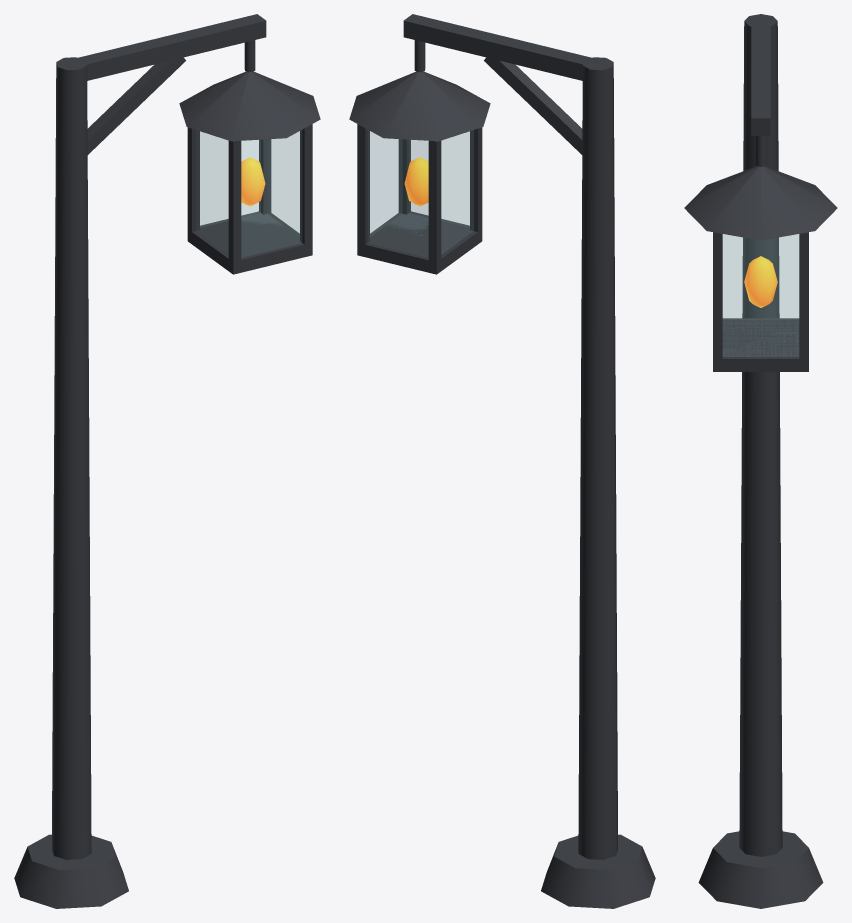
File: hanging-lantern-lod1.glb
3 views of the same model, side by side, from view 1: azimuth 30°, elevation 25°; view 2: azimuth 150°, elevation 25°; view 3: azimuth 270°, elevation 25° (orthographic). The views are drawn at different scales.
Visible parts, largest first — view 1: post, glass-body, cap, post-foot, cage-bar (×4), bracket, floor-plate, bracket-strut, flame; view 2: post, glass-body, cap, post-foot, cage-bar (×4), bracket, floor-plate, bracket-strut, flame; view 3: post, glass-body, cap, post-foot, floor-plate, cage-bar (×2), bracket, flame, hook.
Part boxes in pixels (<box>): post: <box>52,57,91,859</box>; glass-body: <box>196,130,301,256</box>; cap: <box>179,71,320,141</box>; post-foot: <box>14,834,128,908</box>; cage-bar (×4): <box>187,124,312,266</box>; bracket: <box>59,14,266,80</box>; floor-plate: <box>187,211,312,274</box>; bracket-strut: <box>87,57,185,154</box>; flame: <box>241,157,265,206</box>; post: <box>578,57,617,859</box>; glass-body: <box>368,130,473,256</box>; cap: <box>349,71,490,141</box>; post-foot: <box>541,834,655,908</box>; cage-bar (×4): <box>357,124,482,266</box>; bracket: <box>403,14,610,80</box>; floor-plate: <box>357,211,482,274</box>; bracket-strut: <box>484,57,582,154</box>; flame: <box>404,157,428,206</box>; post: <box>739,14,782,856</box>; glass-body: <box>723,234,798,356</box>; cap: <box>684,166,837,240</box>; post-foot: <box>698,831,823,908</box>; floor-plate: <box>713,318,808,371</box>; cage-bar (×2): <box>713,232,808,363</box>; bracket: <box>751,17,770,135</box>; flame: <box>744,256,777,307</box>; hook: <box>755,136,766,166</box>.
Size of the model in its own units: 0.74 by 1.98 by 0.32.
